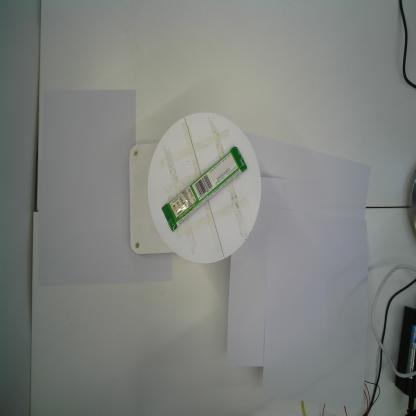Chocolate: (161, 146, 248, 232)
